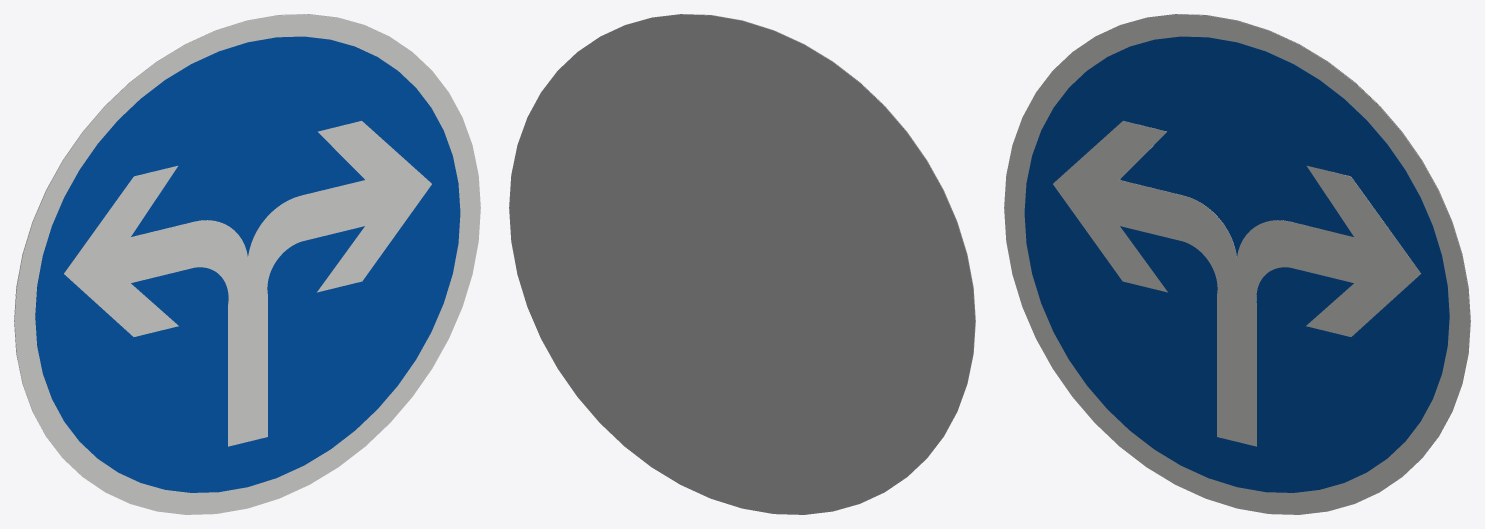
3 renders of one model, left to right at view 1: azimuth 30°, elevation 25°; view 2: azimuth 150°, elevation 25°; view 3: azimuth 330°, elevation 25°, orthographic.
Visible parts, largest first — view 1: B21e_p01, B21e_p02, B21e_p00, B21e_dos; view 2: B21e_dos, B21e_p00; view 3: B21e_p01, B21e_p02, B21e_p00, B21e_dos.
Part boxes in pixels (bbox=[...]): B21e_p01: bbox=[35, 36, 460, 492]; B21e_p02: bbox=[64, 121, 431, 446]; B21e_p00: bbox=[14, 14, 480, 514]; B21e_dos: bbox=[14, 14, 385, 473]; B21e_dos: bbox=[509, 14, 975, 514]; B21e_p00: bbox=[604, 14, 975, 473]; B21e_p01: bbox=[1024, 36, 1449, 492]; B21e_p02: bbox=[1053, 121, 1420, 446]; B21e_p00: bbox=[1004, 14, 1470, 514]; B21e_dos: bbox=[1099, 14, 1470, 473].
Size of the model in its own units: 0.85 by 0.8498 by 0.0027.
